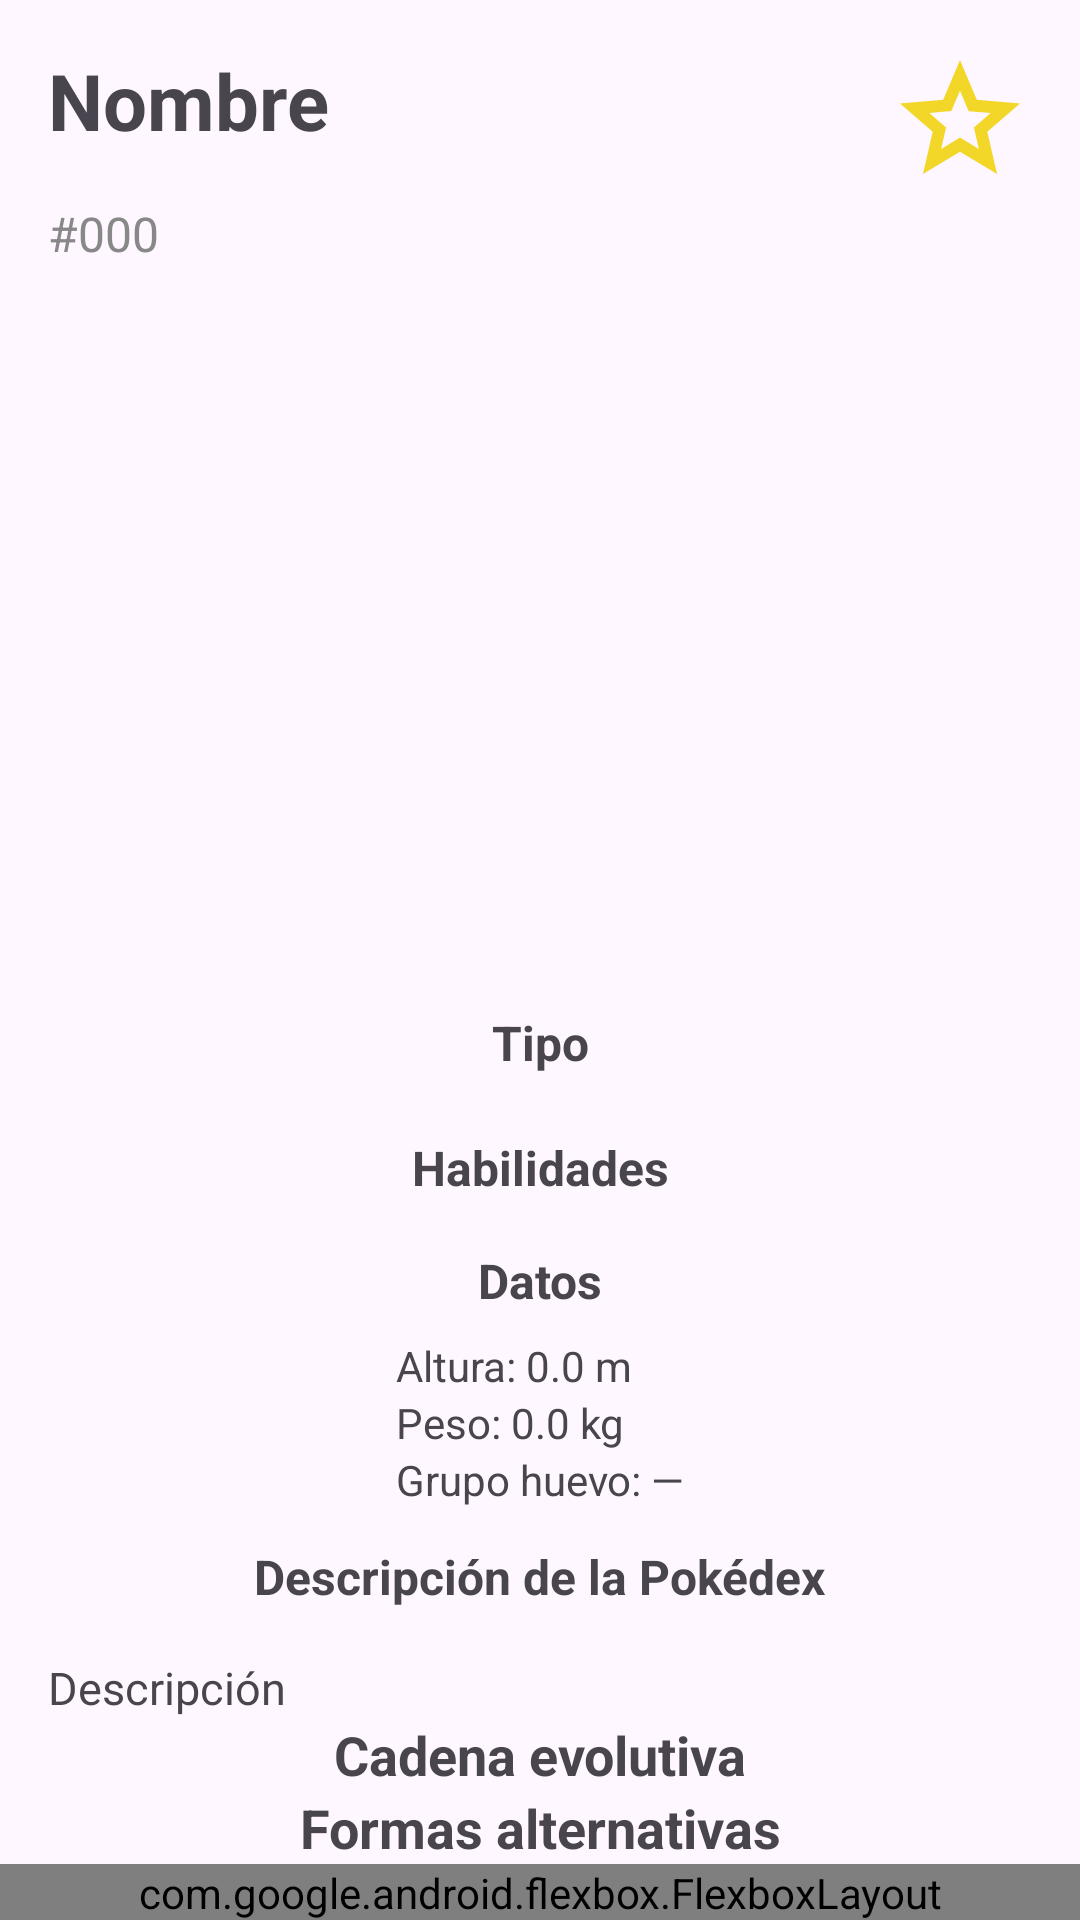

Icon bounding boxes for this 1080w x 1920h phone screenshot, format (x1, y1, x2, y2):
empty star: (900, 60, 1020, 174)
